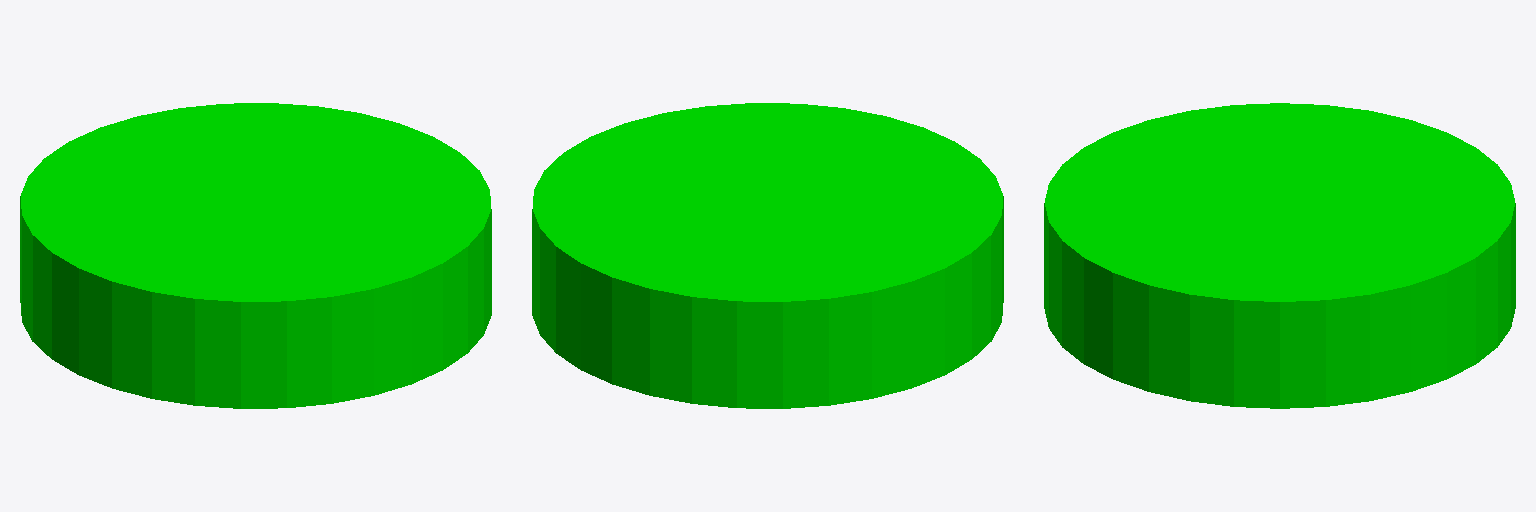
The robot description file, URDF, robot "simplegoal":
<?xml version="1.0"?> 
<robot name="simplegoal">
    <!-- Colors --> 
    <material name="green">
        <color rgba="0 0.925 0 1"/>
    </material>

    <!-- Goal -->
    <link name="base_link">
        <visual>
            <geometry>
                <cylinder radius="2" length="1"/>
                <origin rpy="0 0 0" xyz="0 0 0.005"/>
            </geometry>
            <material name="green"/>
        </visual>
        <collision> 
             <geometry> 
                <cylinder radius="0.05" length="0.005"/>
                <origin rpy="0 0 0" xyz="0 0 0.0025"/>
            </geometry>
        </collision> 
        <inertial> 
            <mass value="10"/>
            <inertia ixx="0" ixy="0" ixz="0" iyy="0" iyz="0" izz="0"/>
        </inertial> 
    </link>
</robot>

--- Facts derived from the render (not from the file) ---
Views: 3 orthographic renders of the robot side by side, from view 1: azimuth 30°, elevation 25°; view 2: azimuth 150°, elevation 25°; view 3: azimuth 270°, elevation 25°.
Robot: simplegoal — 1 links, 0 joints (none); root link base_link; default pose: every joint at zero.
Visible links, largest first — view 1: base_link; view 2: base_link; view 3: base_link.
Boxes of the visible links, left/top/right/bottom form: base_link: left=20, top=103, right=491, bottom=408; base_link: left=532, top=103, right=1003, bottom=408; base_link: left=1044, top=103, right=1515, bottom=408.
Bounding box of the posed robot: 4 × 4 × 1 m (x, y, z).
Geometry: primitives only (box / cylinder / sphere), no mesh files.